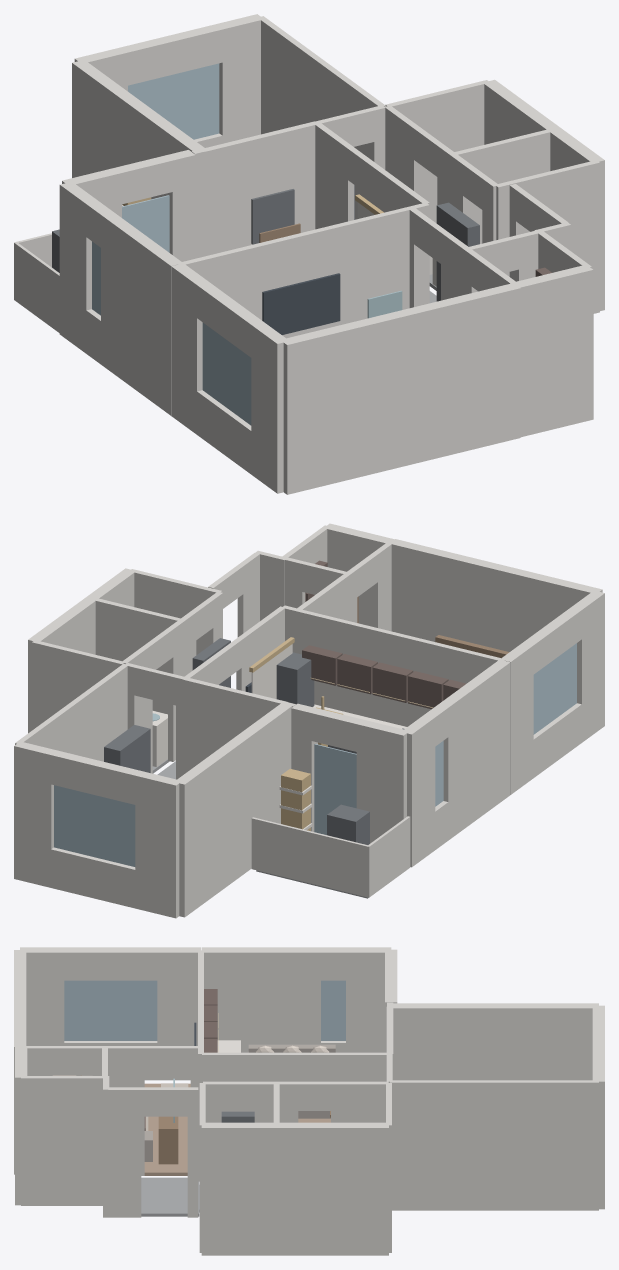
File: kvartira-warm-two-guest.glb
3 renders of one model, top to bottom at view 1: azimuth 30°, elevation 25°; view 2: azimuth 150°, elevation 25°; view 3: azimuth 270°, elevation 25°, orthographic. The views are drawn at different scales.
Visible parts, largest first — view 1: wall_w_l_s_166_612_0.0, wall_w_dividing_168_644_0.0, wall_w_closet_s_612_752_0.0, wall_w_k_w_559_791_0.0, wall_w_top_s_426_660_0.0, wall_w_top_w_20_423_0.0, wall_w_top_e_20_425_0.0, wall_w_wc_s_777_971_0.0, wall_w_l_w_1057_1143_0.0, wall_w_top_n_691_771_0.0, wall_w_bath_n_777_971_0.0, wall_w_k_w_423_511_0.0 (+40 smaller); view 2: wall_w_l_s_166_612_0.0, wall_w_top_w_20_423_0.0, wall_w_dividing_168_644_0.0, wall_w_k_w_559_791_0.0, wall_w_top_n_422_510_0.0, wall_w_log_n_159_409_0.0, wall_w_top_n_691_771_0.0, wall_w_top_e_20_425_0.0, wall_w_top_n_510_691_0.8, wall_w_k_n1_165_266_0.0, wall_w_k_n2_408_643_0.0, wall_w_bath_n_777_971_0.0 (+51 smaller); view 3: wall_w_top_e_20_425_0.0, wall_w_bath_e_427_791_0.0, wall_w_top_w_20_423_0.0, wall_w_k_w_559_791_0.0, wall_w_closet_e_978_1141_0.0, wall_w_l_w_877_1057_0.8, wall_w_entry_e_908_972_0.0, wall_w_l_w_792_877_0.0, wall_w_k_w_423_511_0.0, wall_w_l_w_1057_1143_0.0, wall_w_l_w_877_1057_2.1, wall_w_k_e_625_790_0.0 (+28 smaller).
Boxes of the visible parts, x1=… form: wall_w_l_s_166_612_0.0: x1=281, y1=283, x2=520, y2=494; wall_w_dividing_168_644_0.0: x1=178, y1=202, x2=429, y2=338; wall_w_closet_s_612_752_0.0: x1=516, y1=265, x2=593, y2=437; wall_w_k_w_559_791_0.0: x1=101, y1=212, x2=182, y2=415; wall_w_top_s_426_660_0.0: x1=204, y1=119, x2=327, y2=256; wall_w_top_w_20_423_0.0: x1=72, y1=60, x2=204, y2=199; wall_w_top_e_20_425_0.0: x1=258, y1=16, x2=385, y2=219; wall_w_wc_s_777_971_0.0: x1=495, y1=161, x2=599, y2=313; wall_w_l_w_1057_1143_0.0: x1=251, y1=322, x2=289, y2=493; wall_w_top_n_691_771_0.0: x1=216, y1=14, x2=263, y2=143; wall_w_bath_n_777_971_0.0: x1=385, y1=80, x2=489, y2=223; wall_w_k_w_423_511_0.0: x1=59, y1=183, x2=98, y2=353; wall_w_l_s_166_612_0.0: x1=390, y1=539, x2=602, y2=651; wall_w_top_w_20_423_0.0: x1=174, y1=703, x2=292, y2=917; wall_w_dividing_168_644_0.0: x1=282, y1=605, x2=505, y2=726; wall_w_k_w_559_791_0.0: x1=437, y1=659, x2=510, y2=840; wall_w_top_n_422_510_0.0: x1=135, y1=771, x2=181, y2=918; wall_w_log_n_159_409_0.0: x1=251, y1=817, x2=368, y2=897; wall_w_top_n_691_771_0.0: x1=14, y1=742, x2=56, y2=887; wall_w_top_e_20_425_0.0: x1=15, y1=663, x2=127, y2=761; wall_w_top_n_510_691_0.8: x1=54, y1=785, x2=135, y2=866; wall_w_k_n1_165_266_0.0: x1=356, y1=719, x2=409, y2=843; wall_w_k_n2_408_643_0.0: x1=183, y1=679, x2=295, y2=774; wall_w_bath_n_777_971_0.0: x1=32, y1=641, x2=124, y2=730; wall_w_top_e_20_425_0.0: x1=390, y1=1080, x2=598, y2=1210; wall_w_bath_e_427_791_0.0: x1=201, y1=1122, x2=388, y2=1255; wall_w_top_w_20_423_0.0: x1=391, y1=1003, x2=598, y2=1080; wall_w_k_w_559_791_0.0: x1=201, y1=947, x2=320, y2=1052; wall_w_closet_e_978_1141_0.0: x1=21, y1=1076, x2=104, y2=1205; wall_w_l_w_877_1057_0.8: x1=64, y1=980, x2=157, y2=1040; wall_w_entry_e_908_972_0.0: x1=108, y1=1087, x2=141, y2=1217; wall_w_l_w_792_877_0.0: x1=157, y1=947, x2=200, y2=1080; wall_w_k_w_423_511_0.0: x1=346, y1=947, x2=391, y2=1052; wall_w_l_w_1057_1143_0.0: x1=20, y1=947, x2=64, y2=1045; wall_w_l_w_877_1057_2.1: x1=64, y1=947, x2=157, y2=980; wall_w_k_e_625_790_0.0: x1=202, y1=1052, x2=286, y2=1111.
Size of the model in its own units: 8.24 by 2.77 by 11.41.
